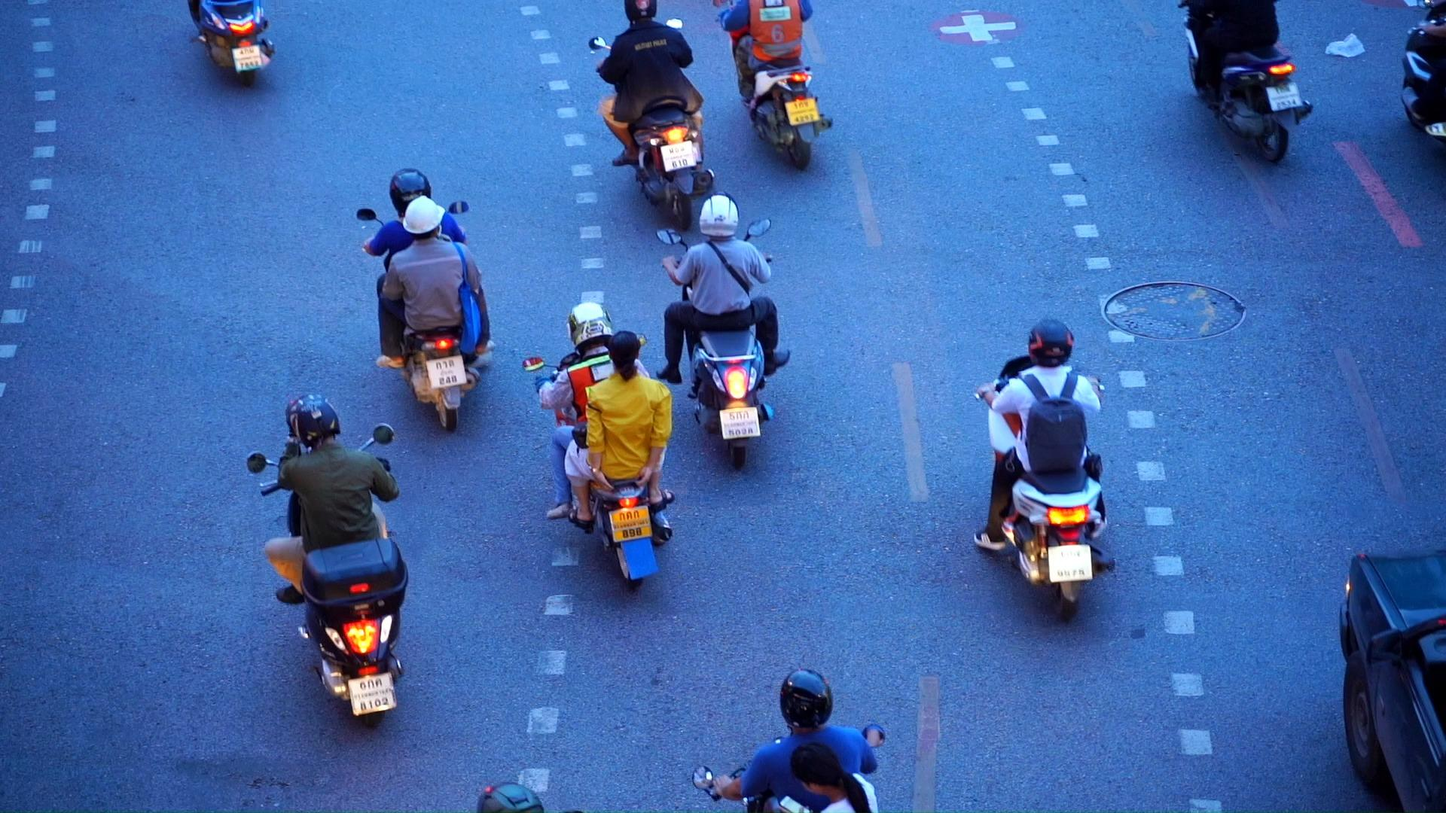driver: (246, 393, 409, 728), (521, 303, 677, 587), (973, 318, 1115, 621), (654, 191, 790, 469), (357, 168, 496, 431), (589, 0, 716, 233), (691, 668, 885, 813), (1178, 0, 1314, 163), (715, 0, 835, 173), (1400, 0, 1446, 147)
helmet: (780, 668, 833, 730), (288, 393, 341, 448), (568, 303, 614, 352), (1028, 318, 1074, 367), (390, 168, 432, 219), (477, 782, 544, 813), (403, 196, 446, 241), (699, 190, 739, 238), (624, 0, 657, 21)
no-helmet: (790, 741, 868, 797), (608, 330, 641, 383)
